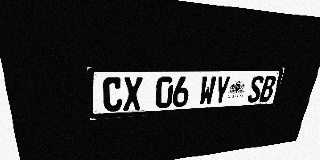0: (155, 77, 174, 109)
6: (172, 76, 191, 107)
B: (259, 75, 277, 102)
C: (102, 77, 123, 112)
S: (247, 76, 265, 103)
W: (198, 76, 217, 106)
X: (123, 77, 142, 111)
Y: (213, 76, 231, 105)
